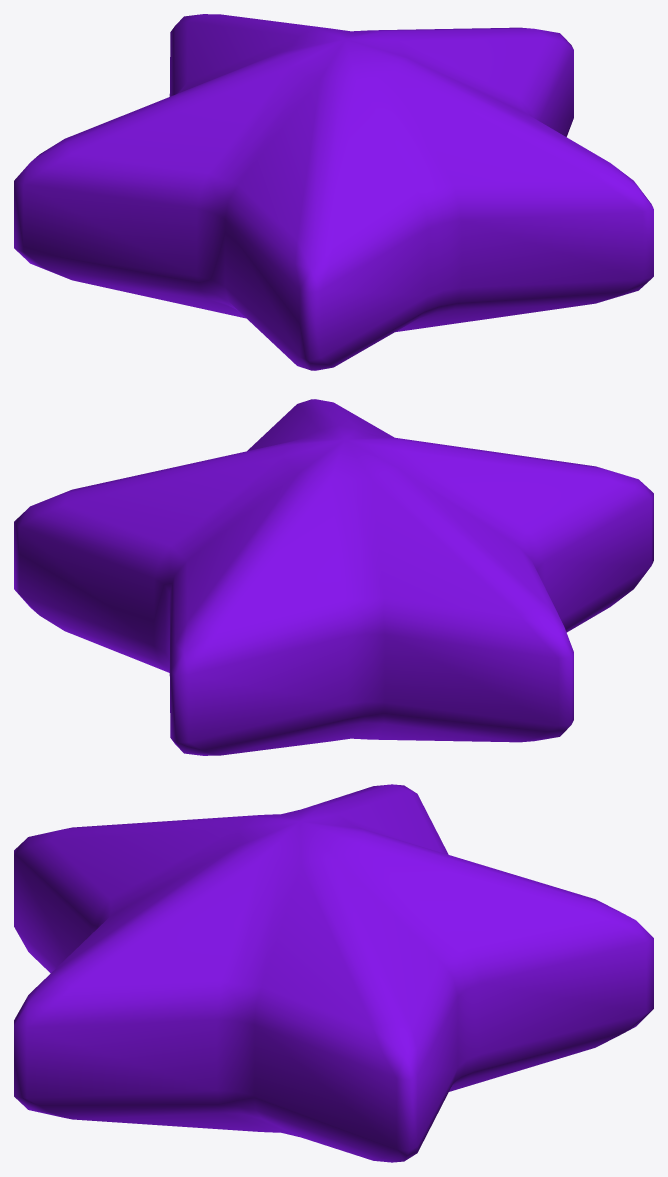
Rendered from etoile_blue.glb.
The picture shows the model from 3 angles, top to bottom: view 1: azimuth 30°, elevation 25°; view 2: azimuth 150°, elevation 25°; view 3: azimuth 270°, elevation 25°; orthographic projection. The views are drawn at different scales.
Visible parts, largest first — view 1: Cylinder.002; view 2: Cylinder.002; view 3: Cylinder.002.
Part boxes in pixels (bbox=[...]): Cylinder.002: bbox=[14, 14, 653, 370]; Cylinder.002: bbox=[14, 399, 653, 755]; Cylinder.002: bbox=[14, 784, 653, 1162].
Bounding box in the file's own units: 1.84 × 0.9202 × 1.75.
